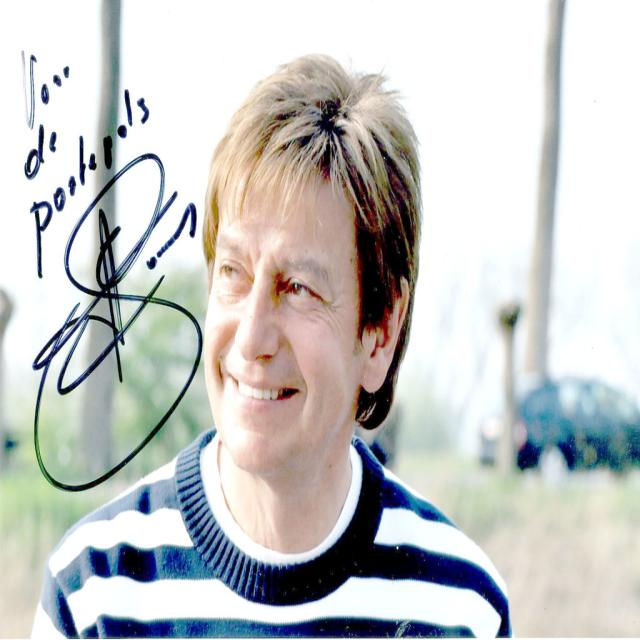no_helmet: (174, 130, 417, 420)
